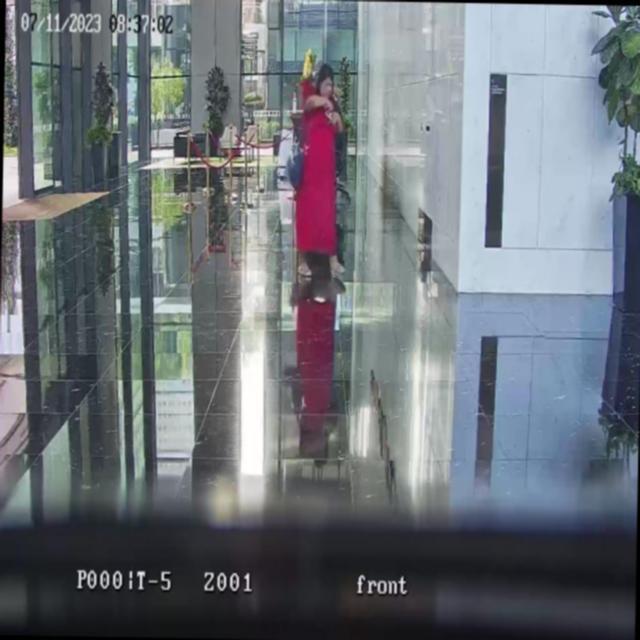person: (291, 61, 348, 284)
